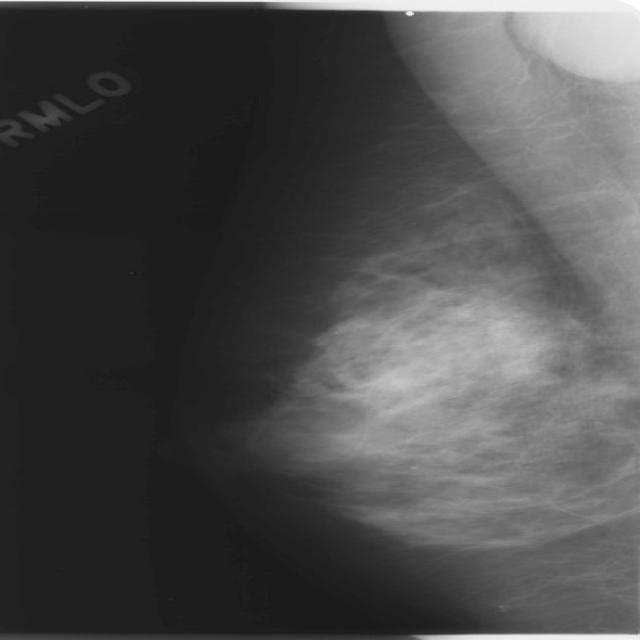tumour: (505, 8, 638, 82)
